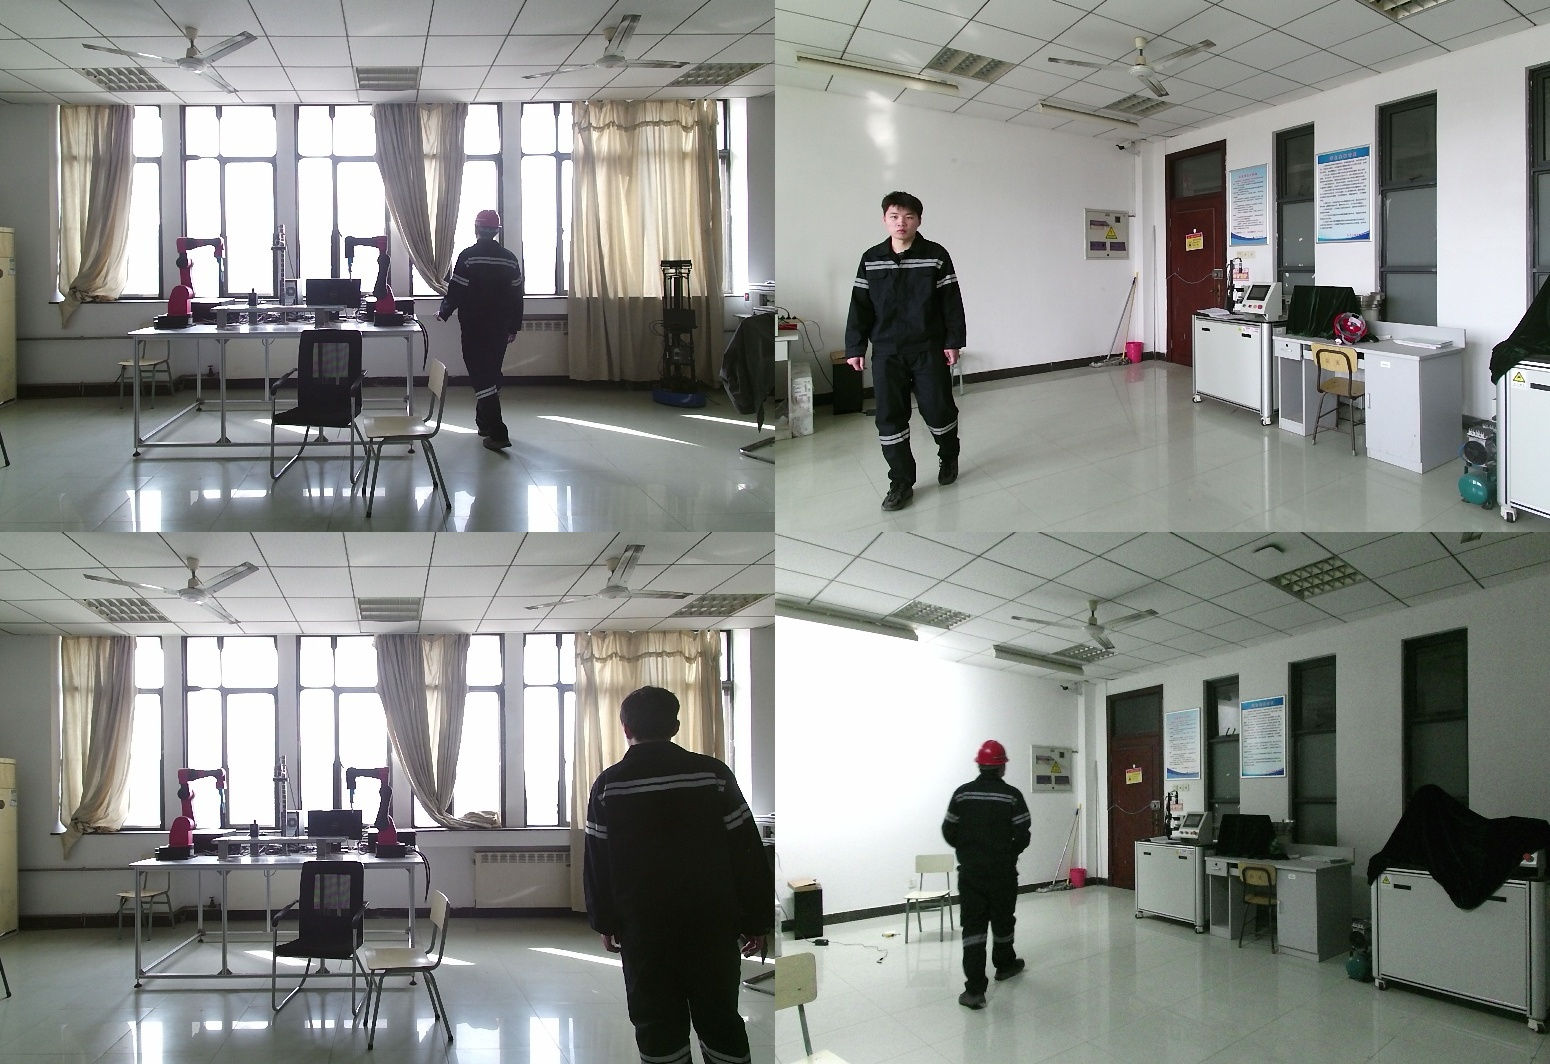person: (582, 686, 769, 1064), (845, 194, 969, 512), (942, 739, 1047, 1007), (439, 207, 529, 455)
